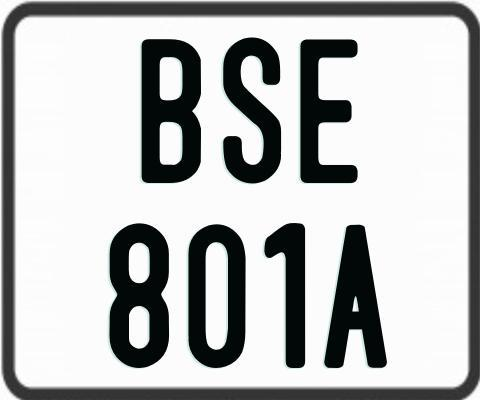0: (188, 223, 246, 373)
1: (262, 220, 308, 365)
8: (109, 222, 171, 373)
A: (322, 223, 388, 367)
B: (141, 39, 206, 183)
E: (298, 39, 357, 188)
S: (220, 37, 280, 187)
